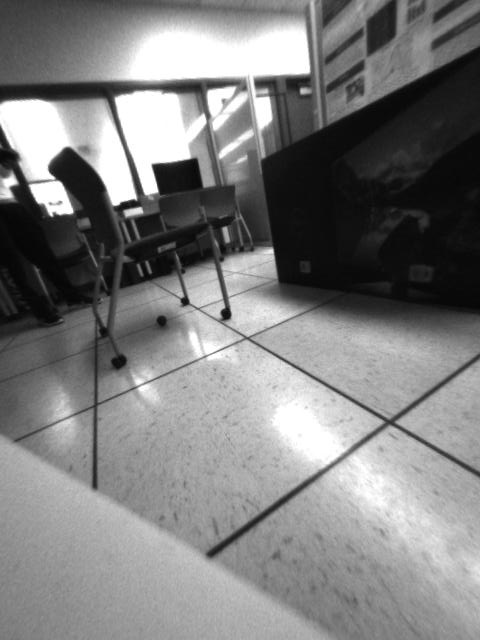dogtoy: (151, 311, 175, 332)
